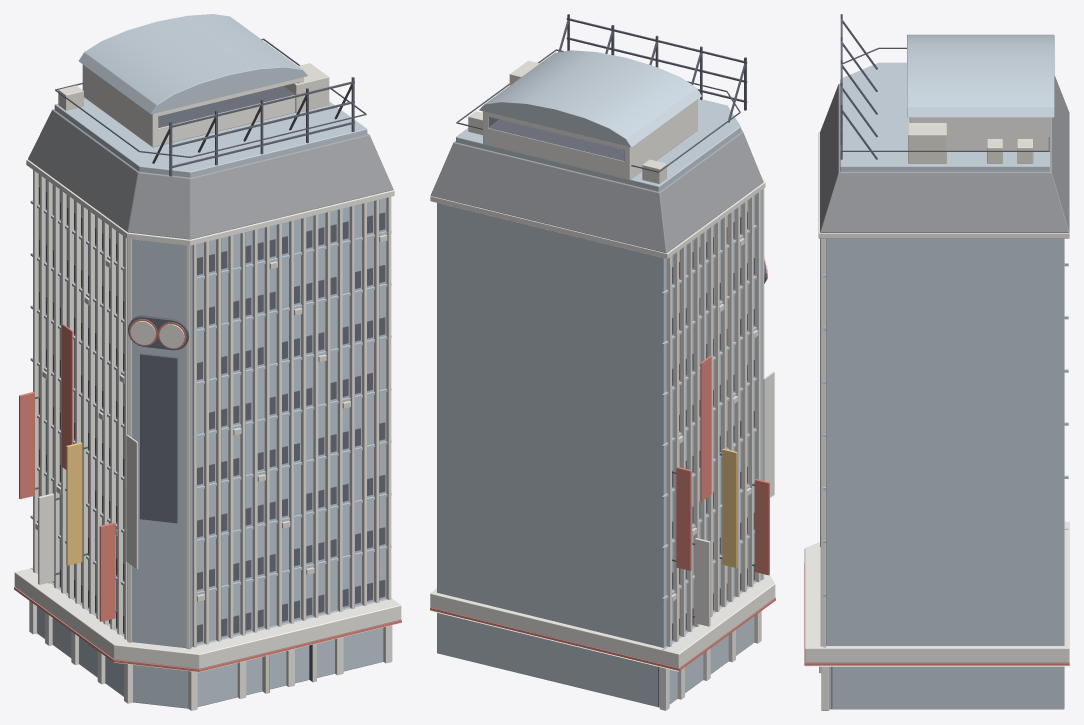
The model's file is wannian.glb.
3 renders of one model, left to right at view 1: azimuth 30°, elevation 25°; view 2: azimuth 150°, elevation 25°; view 3: azimuth 270°, elevation 25°, orthographic. The views are drawn at different scales.
Parts seen in each view (by area): view 1: main; view 2: main; view 3: main.
Boxes of the visible parts, box(x1,y1,x2,y2) form: main: box(14, 14, 401, 710); main: box(430, 14, 775, 710); main: box(804, 14, 1069, 710).
Size of the model in its own units: 17.15 by 36.85 by 14.92.
